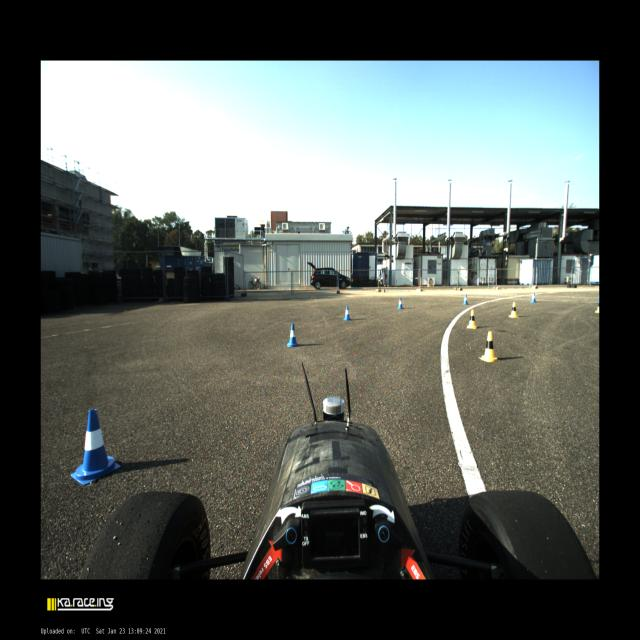blue_cone: (70, 409, 120, 485), (287, 323, 298, 348), (344, 306, 352, 321), (530, 292, 537, 303), (398, 297, 403, 309), (462, 294, 468, 304)
yellow_cone: (478, 331, 498, 362), (466, 310, 476, 328), (509, 302, 518, 318)
